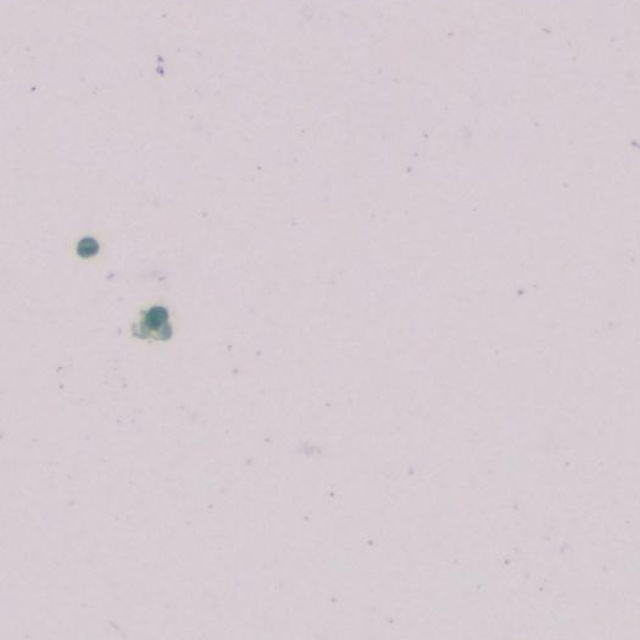non_viable: (141, 306, 167, 332), (77, 236, 98, 257)
